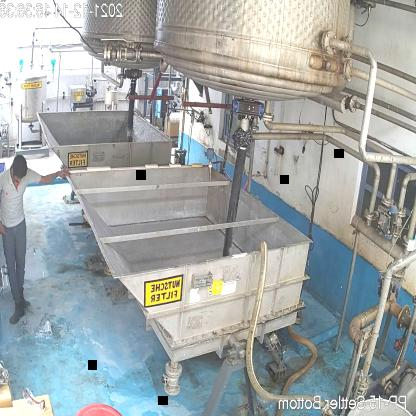no_glove: (36, 170, 69, 186), (0, 196, 6, 240)
shoes: (8, 298, 24, 326)
